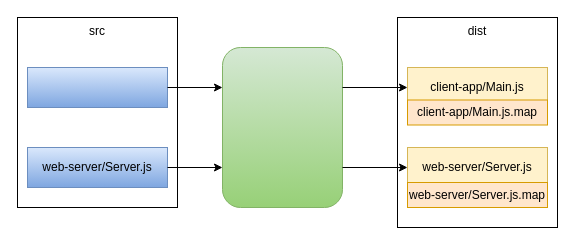
The diagram is 575 pixels wide and 245 high, and some of its shapes have lost their labels. Here are the shapes that lost their labels. From the top down, the centre of each, then its label:
the point at 97,87: client-app/Main.ts
the point at 282,127: TypeScript Compiler
